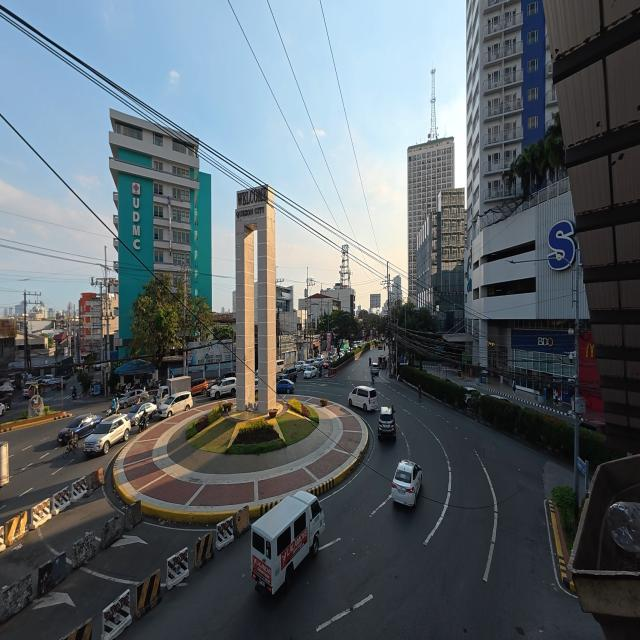Jeepneys: (378, 356, 386, 370)
car: (84, 414, 130, 455), (57, 414, 101, 445), (392, 460, 422, 505), (158, 392, 193, 418), (128, 402, 157, 426), (378, 406, 396, 440), (208, 378, 236, 399), (119, 389, 149, 408), (580, 420, 605, 435), (277, 366, 297, 382), (465, 387, 482, 404), (191, 379, 208, 395), (277, 379, 294, 394), (23, 382, 38, 397), (304, 365, 318, 379), (490, 394, 511, 403), (49, 377, 66, 388), (303, 358, 314, 369), (221, 371, 236, 378), (371, 363, 379, 375), (42, 375, 54, 383), (295, 361, 304, 371), (0, 403, 6, 415), (254, 374, 259, 387), (322, 361, 329, 368)
motorcycle: (106, 402, 119, 417), (139, 412, 148, 432), (105, 407, 115, 417), (72, 387, 77, 400), (372, 374, 375, 385), (369, 358, 371, 366)
trucks: (155, 376, 191, 407), (0, 442, 9, 487)
vans: (251, 492, 324, 593), (349, 386, 377, 411), (276, 360, 284, 373)
